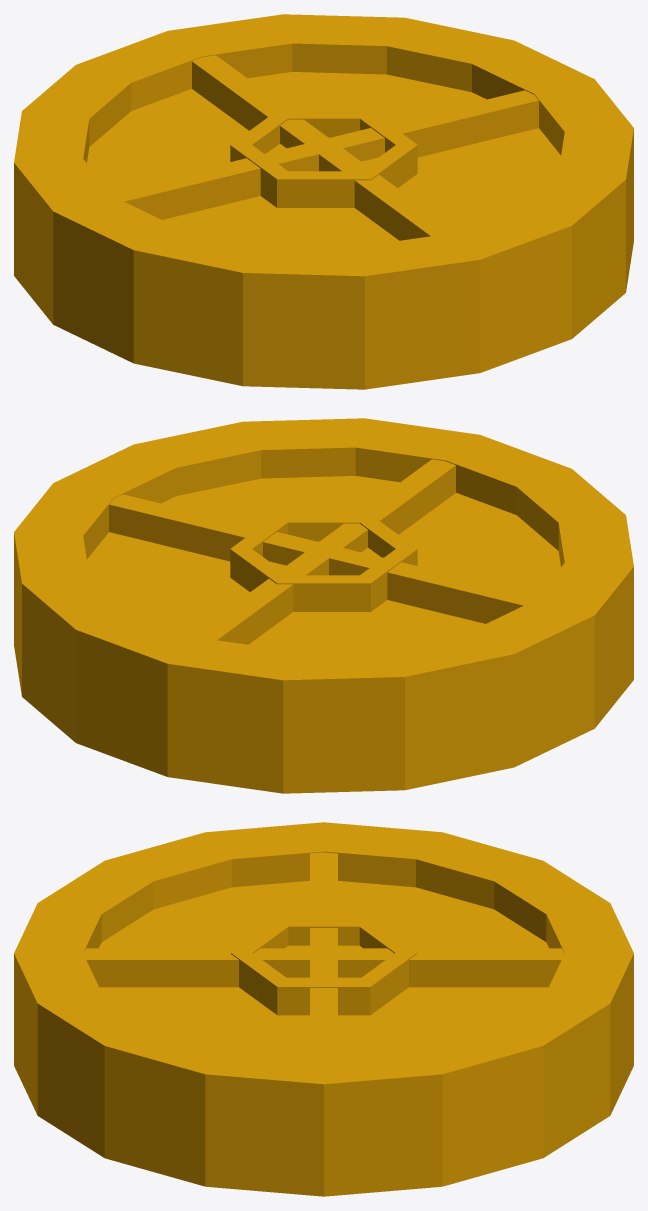
File: Coin.fbx
The picture shows the model from 3 angles, top to bottom: view 1: azimuth 30°, elevation 25°; view 2: azimuth 150°, elevation 25°; view 3: azimuth 270°, elevation 25°; orthographic projection.
Visible parts, largest first — view 1: Cylinder.001; view 2: Cylinder.001; view 3: Cylinder.001.
Boxes of the visible parts, box(x1,y1,x2,y2) form: Cylinder.001: box(14, 14, 633, 389); Cylinder.001: box(14, 418, 633, 793); Cylinder.001: box(14, 822, 633, 1196).
Bounding box in the file's own units: 200 × 40.27 × 200.
